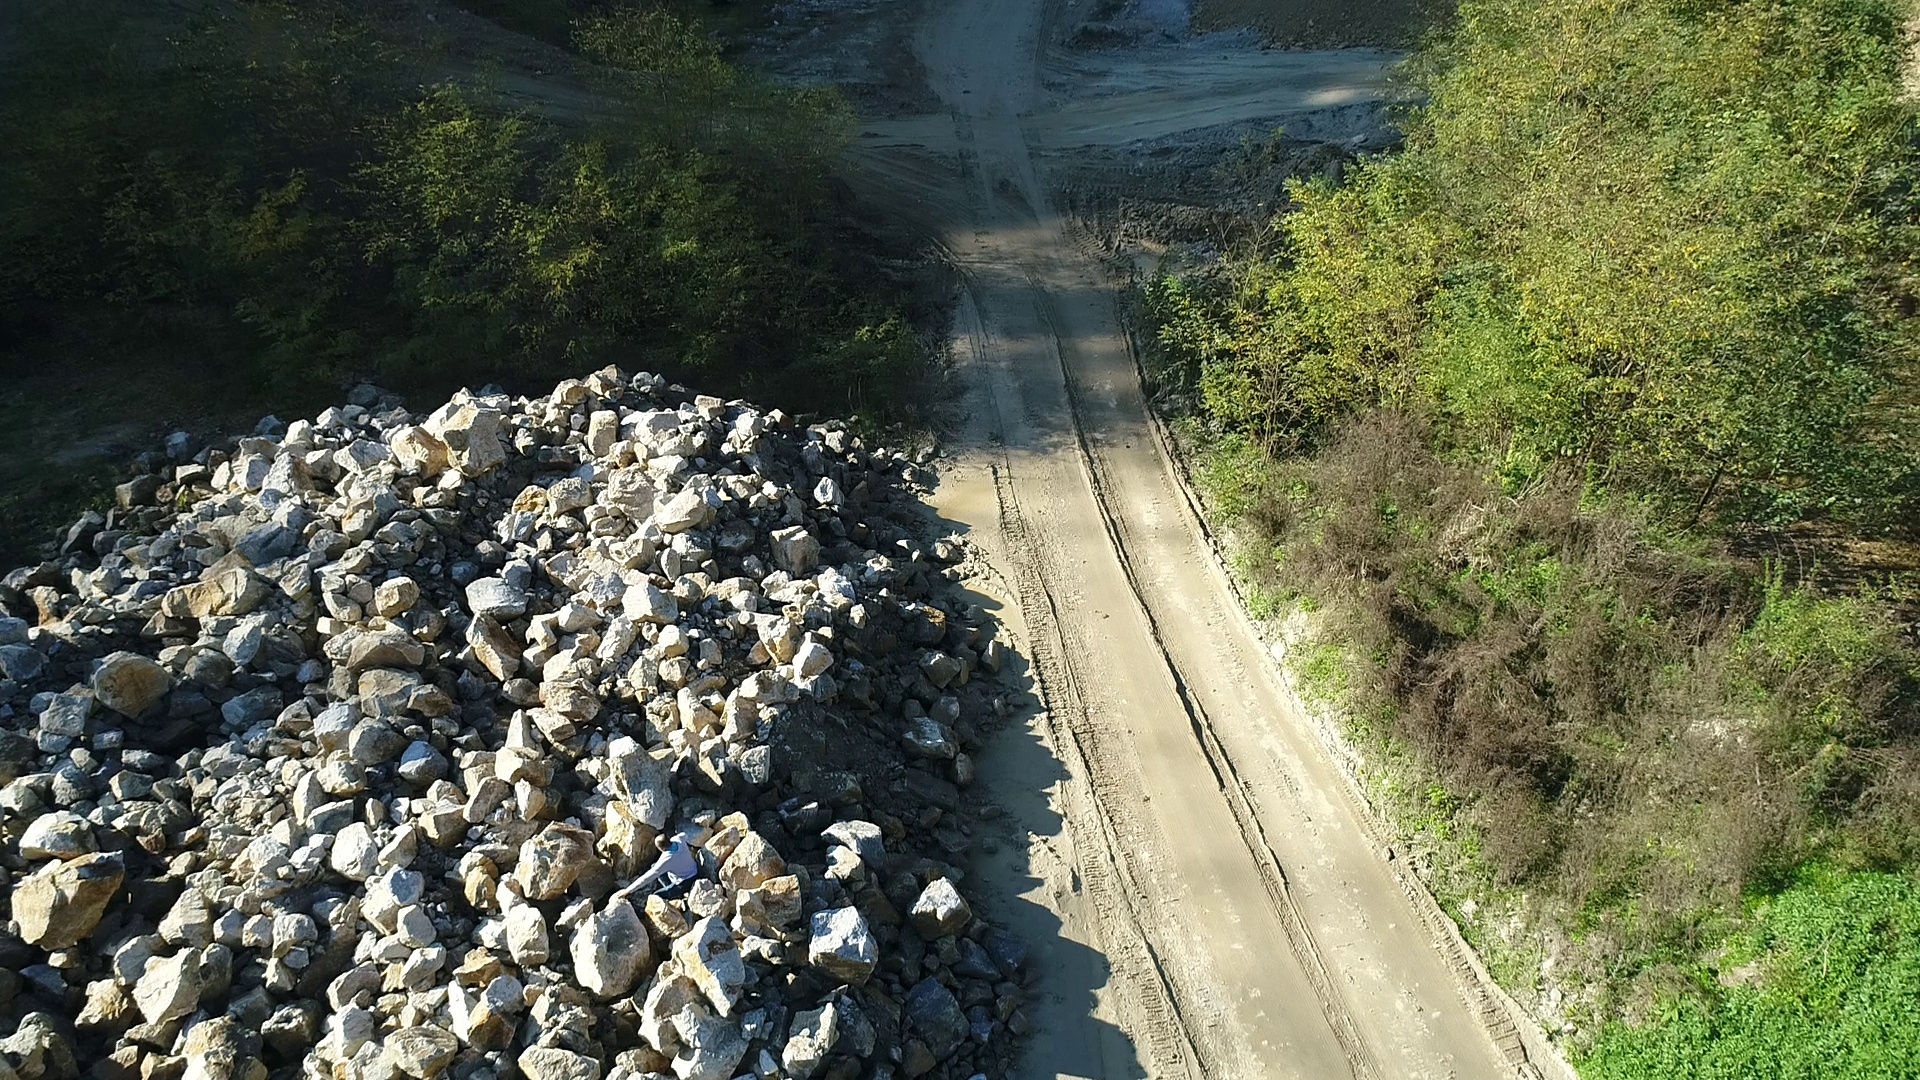person: (608, 832, 702, 900)
